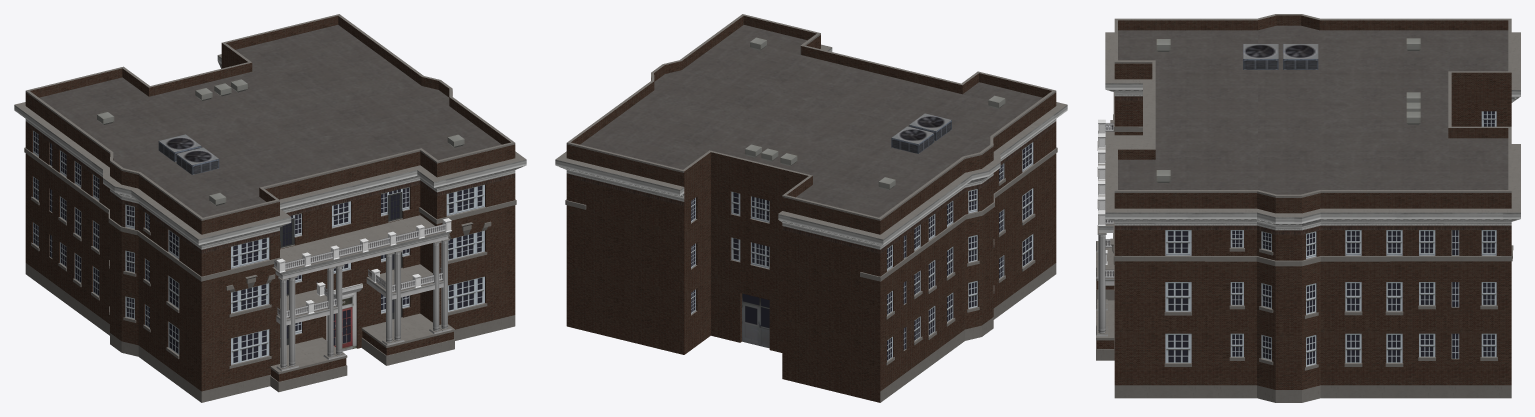
The picture shows the model from 3 angles, left to right: view 1: azimuth 30°, elevation 25°; view 2: azimuth 150°, elevation 25°; view 3: azimuth 270°, elevation 25°; orthographic projection. The views are drawn at different scales.
Visible parts, largest first — view 1: Object_2; view 2: Object_2; view 3: Object_2.
Part boxes in pixels (x1,y1,x2,y2): Object_2: (14, 14, 526, 402); Object_2: (555, 14, 1067, 402); Object_2: (1096, 14, 1520, 402).
Bounding box in the file's own units: 2400 × 1225 × 2270.
1 material, 1 textured.
